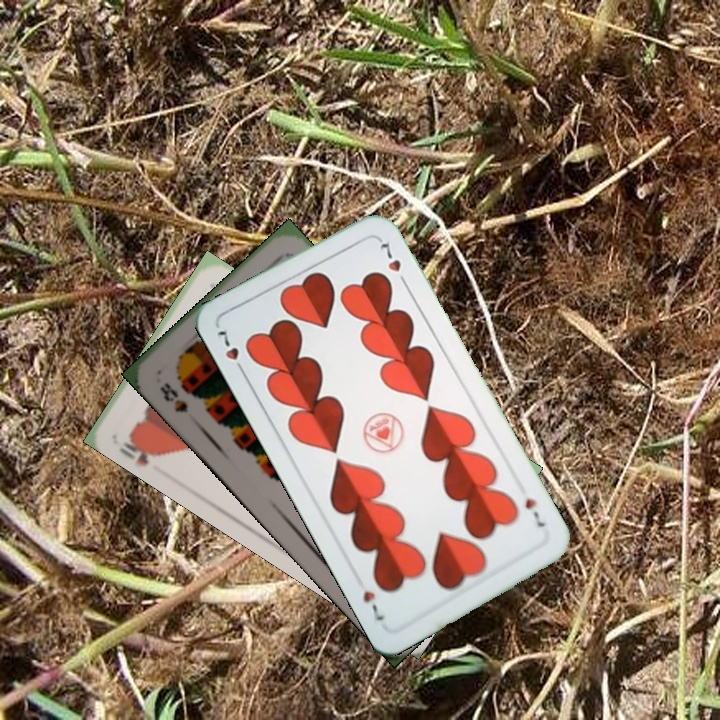H7: (213, 324, 248, 378), (520, 494, 548, 530)
HO: (115, 430, 164, 469)
S8: (155, 378, 191, 415)
